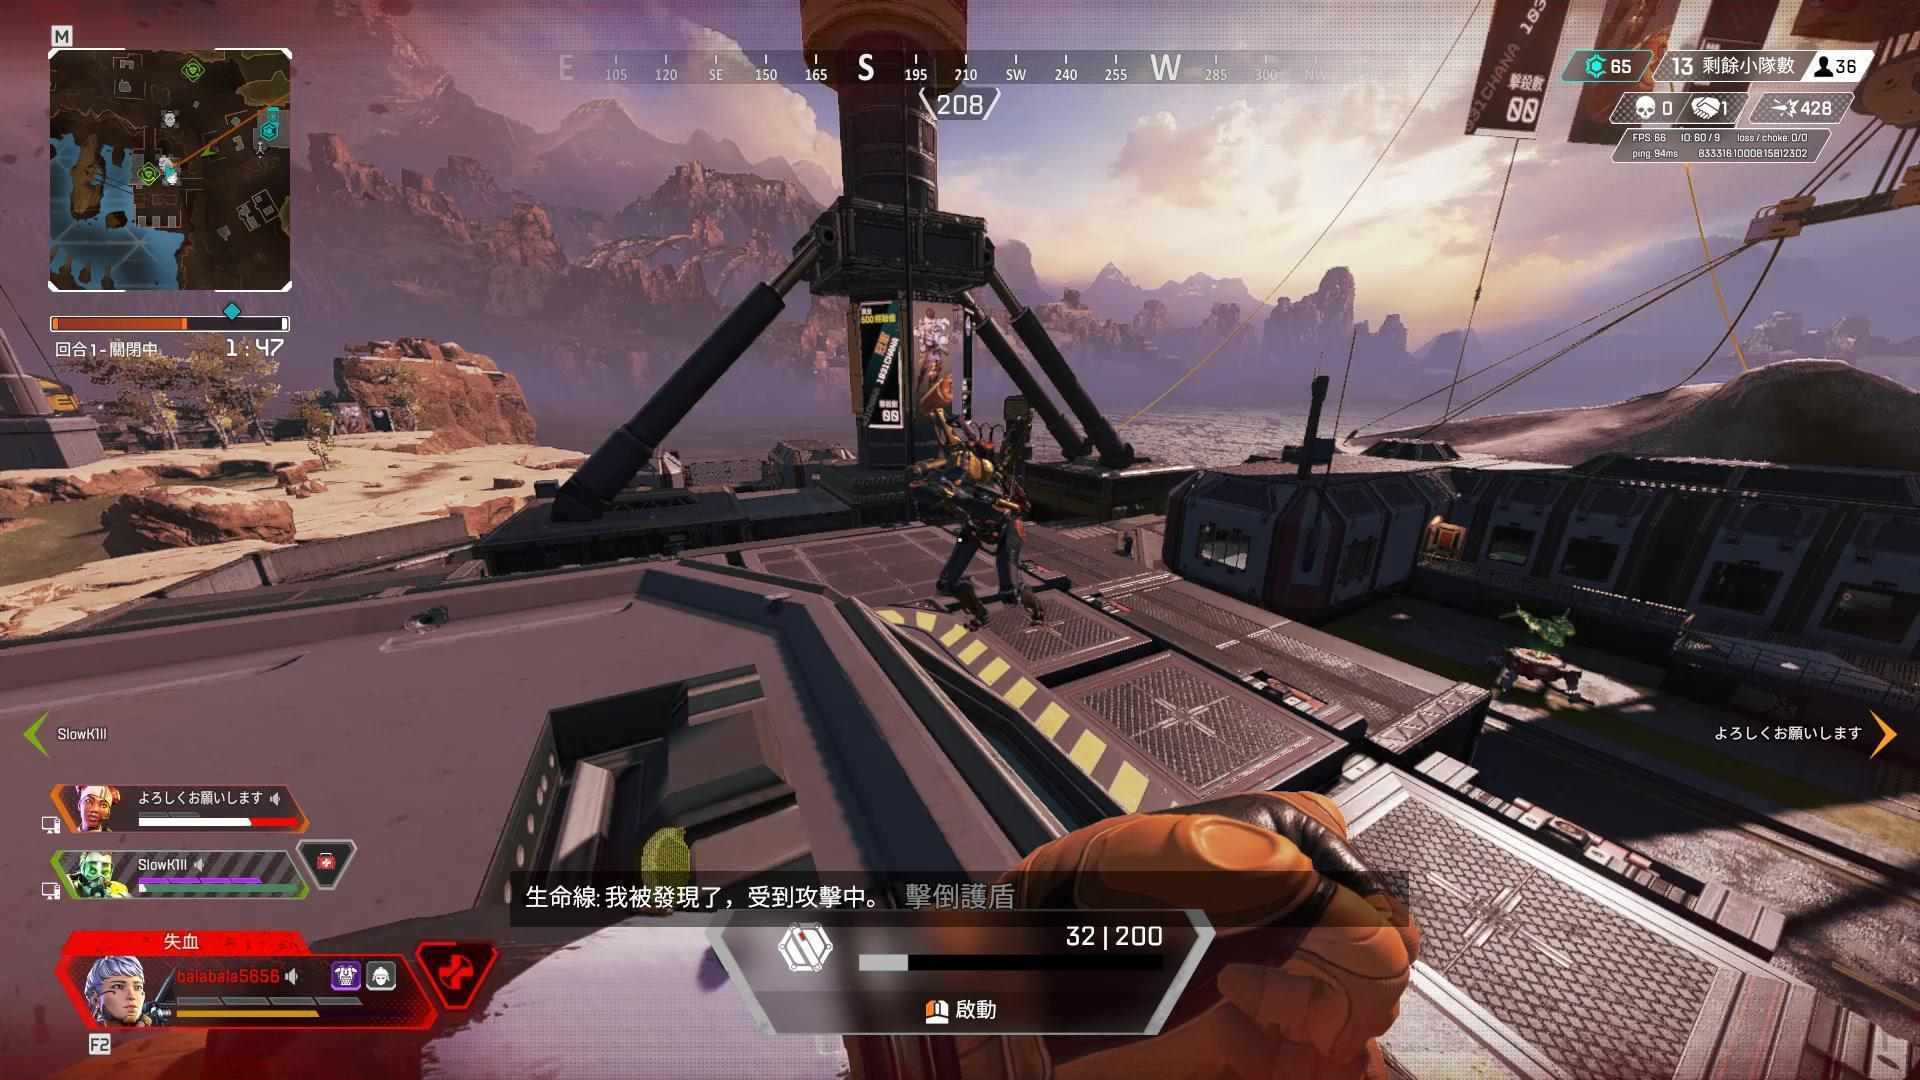avatar: (904, 447, 1028, 637)
